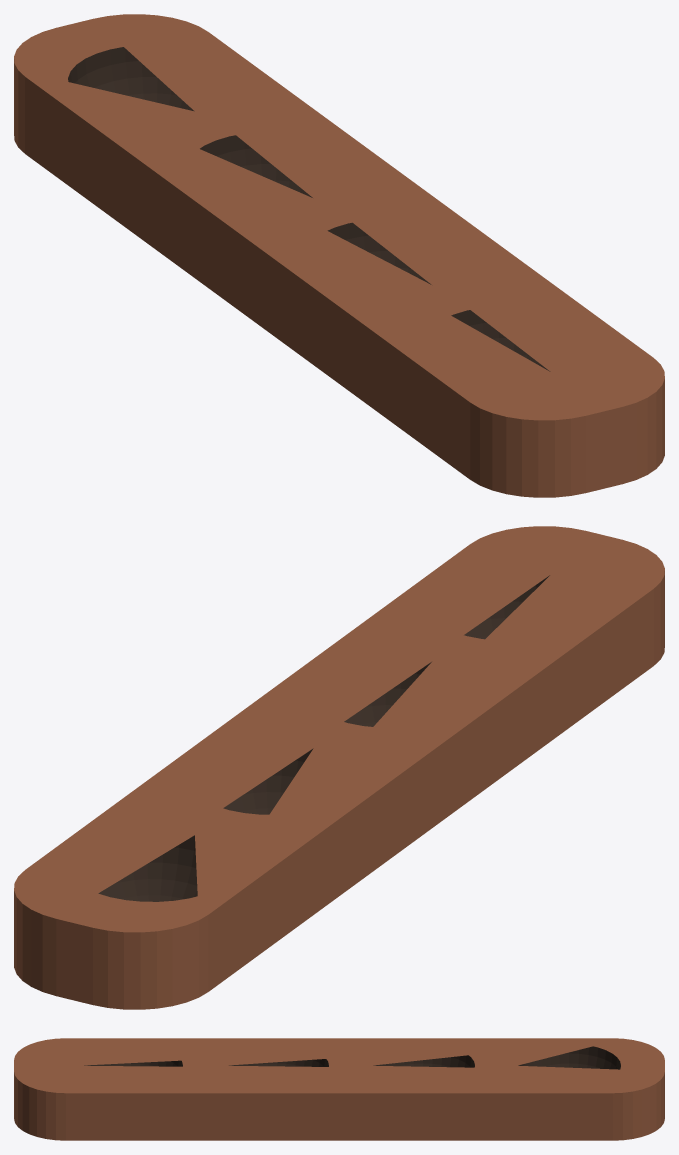
File: Rounded Cannon Ball Holder 4 Ball.fbx
3 renders of one model, top to bottom at view 1: azimuth 30°, elevation 25°; view 2: azimuth 150°, elevation 25°; view 3: azimuth 270°, elevation 25°, orthographic. The views are drawn at different scales.
Visible parts, largest first — view 1: Rounded Cannon Ball Holder 4 Ball; view 2: Rounded Cannon Ball Holder 4 Ball; view 3: Rounded Cannon Ball Holder 4 Ball.
Boxes of the visible parts, <box> form: Rounded Cannon Ball Holder 4 Ball: <box>14,14,664,497</box>; Rounded Cannon Ball Holder 4 Ball: <box>14,526,664,1009</box>; Rounded Cannon Ball Holder 4 Ball: <box>14,1038,664,1140</box>.
Size of the model in its own units: 250 by 101 by 1251.
